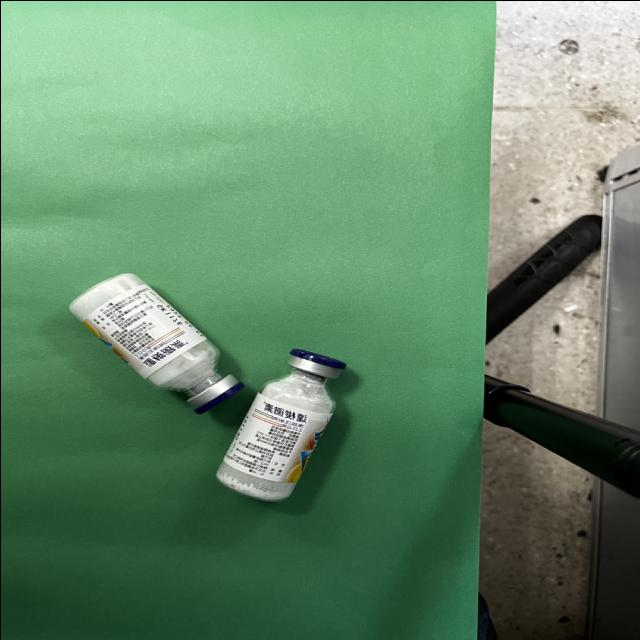Vials: (68, 272, 244, 414), (214, 348, 346, 504)
